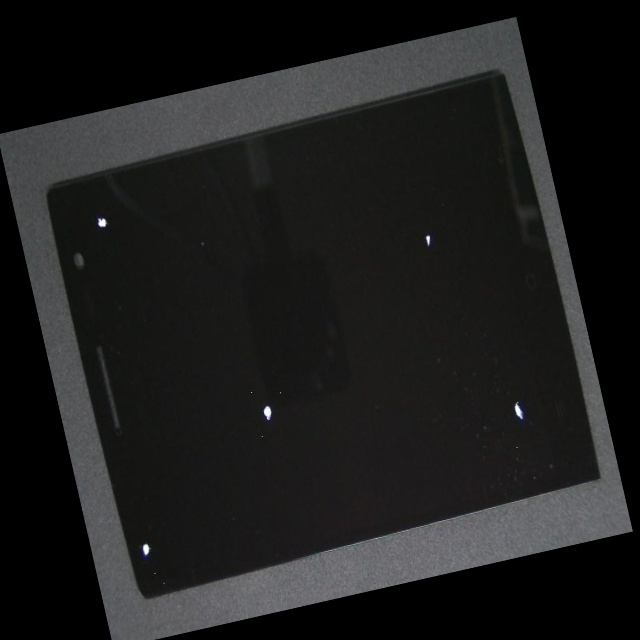stain: (225, 191, 633, 606), (191, 91, 586, 402), (99, 242, 402, 635), (68, 296, 183, 640), (33, 145, 147, 306)
